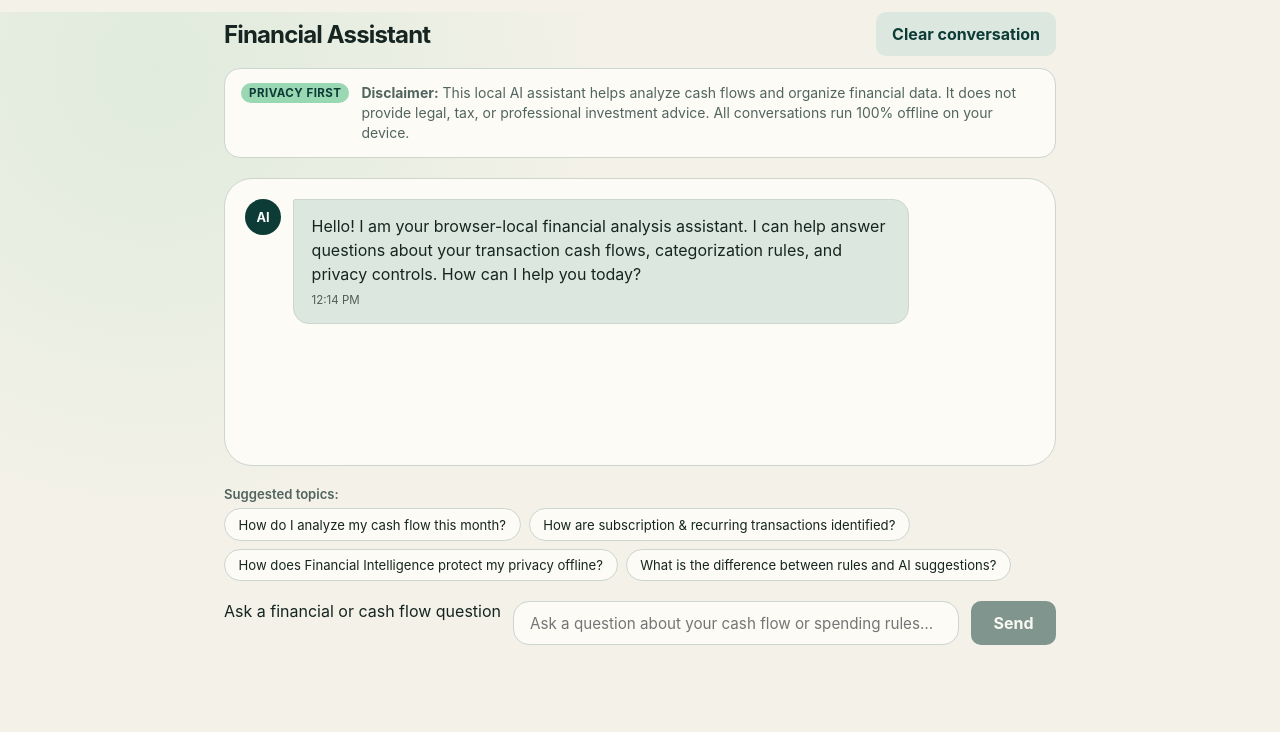
Test: ChatPage › sends message when clicking a starter topic chip
expect the heading "Financial Assistant" is shown: met, box left=224, top=20, right=430, bottom=48
Click the button "How do I analyze my cash flow this month?" at point(372, 525), box left=224, top=508, right=521, bottom=541
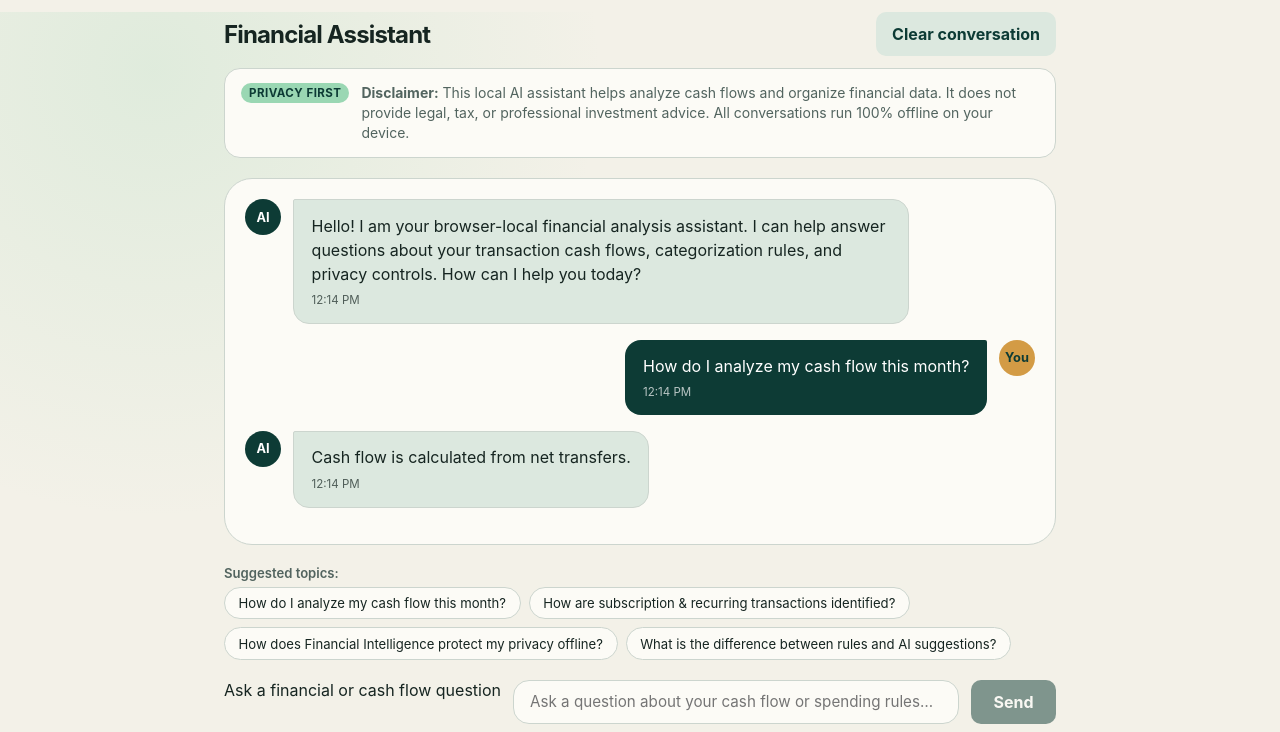
expect the text "How do I analyze my cash flow this month?" is shown 2 times: met, box left=643, top=354, right=969, bottom=378; left=224, top=587, right=521, bottom=619
expect the text "Cash flow is calculated from net transfers." is shown: met, box left=312, top=445, right=631, bottom=469
